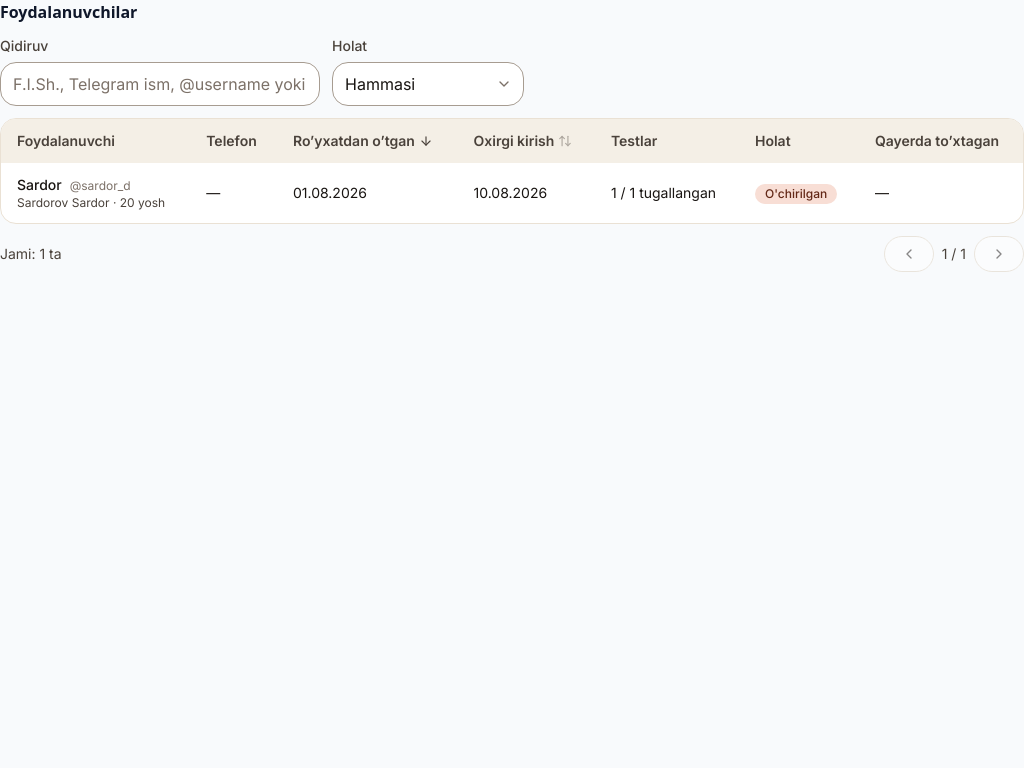
Scenario: PublicSpaceUsersSection › o'chirilgan qatorga bosilsa profilga o'TILMAYDI, sabab dialogi ochiladi
Click the button "Sardor" at coordinates (512, 193), box [1,163,1023,223]
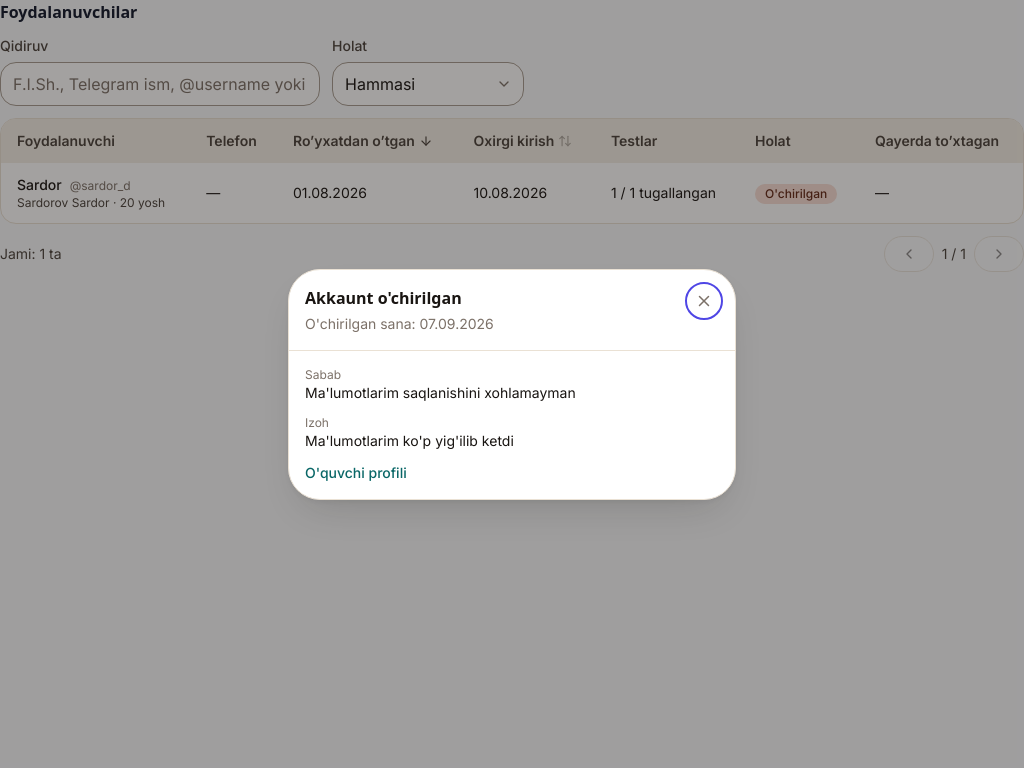
Expected: the heading "Akkaunt o'chirilgan" is shown, [305,286,462,308]
Expected: the text "07.09.2026" is shown, [305,314,494,332]
Expected: the text "Ma'lumotlarim saqlanishini xohlamayman" is shown, [305,384,576,400]
